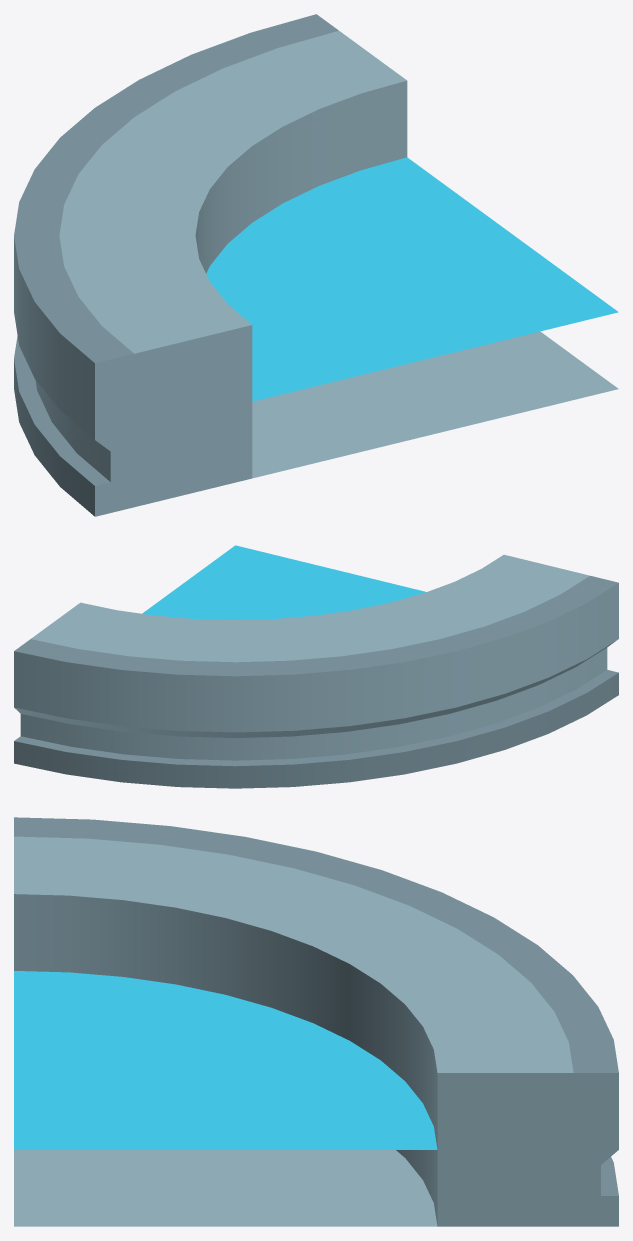
The model's file is fountainCurved.obj.
3 views of the same model, one above another, from view 1: azimuth 30°, elevation 25°; view 2: azimuth 150°, elevation 25°; view 3: azimuth 270°, elevation 25° (orthographic). The views are drawn at different scales.
Parts seen in each view (by area): view 1: fountainCurved; view 2: fountainCurved; view 3: fountainCurved.
Boxes of the visible parts, x1=… form: fountainCurved: x1=14, y1=14, x2=618, y2=516; fountainCurved: x1=14, y1=545, x2=618, y2=788; fountainCurved: x1=14, y1=817, x2=618, y2=1226.
Size of the model in its own units: 1 by 0.28 by 1.
